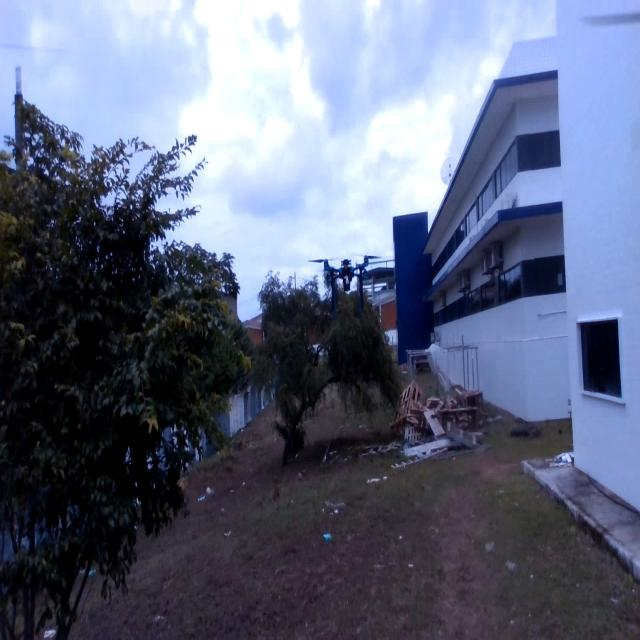-uav-: (306, 240, 390, 332)
